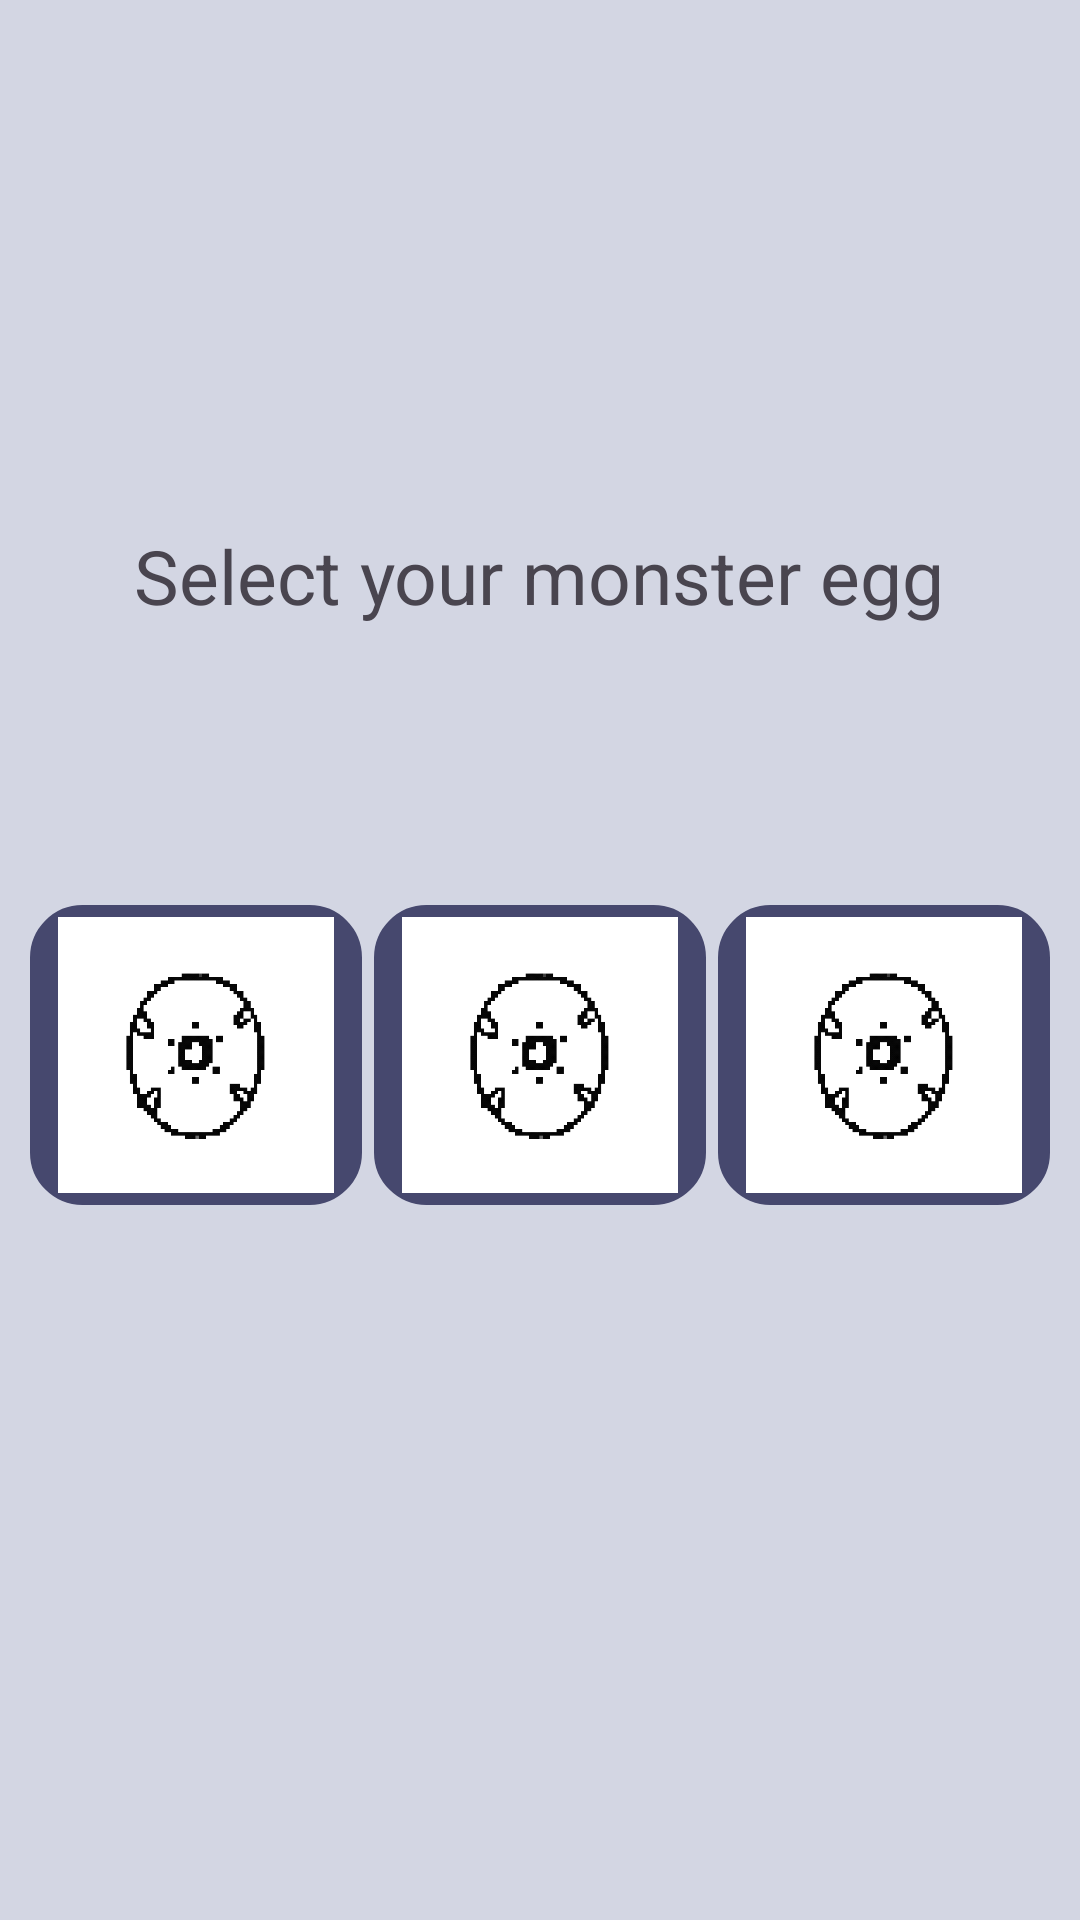

Screen size 1080 × 1920. Icon name, then its center in pixels as (x=x, y=y):
monster morning egg: (x=196, y=1055), (x=540, y=1055), (x=884, y=1055)
